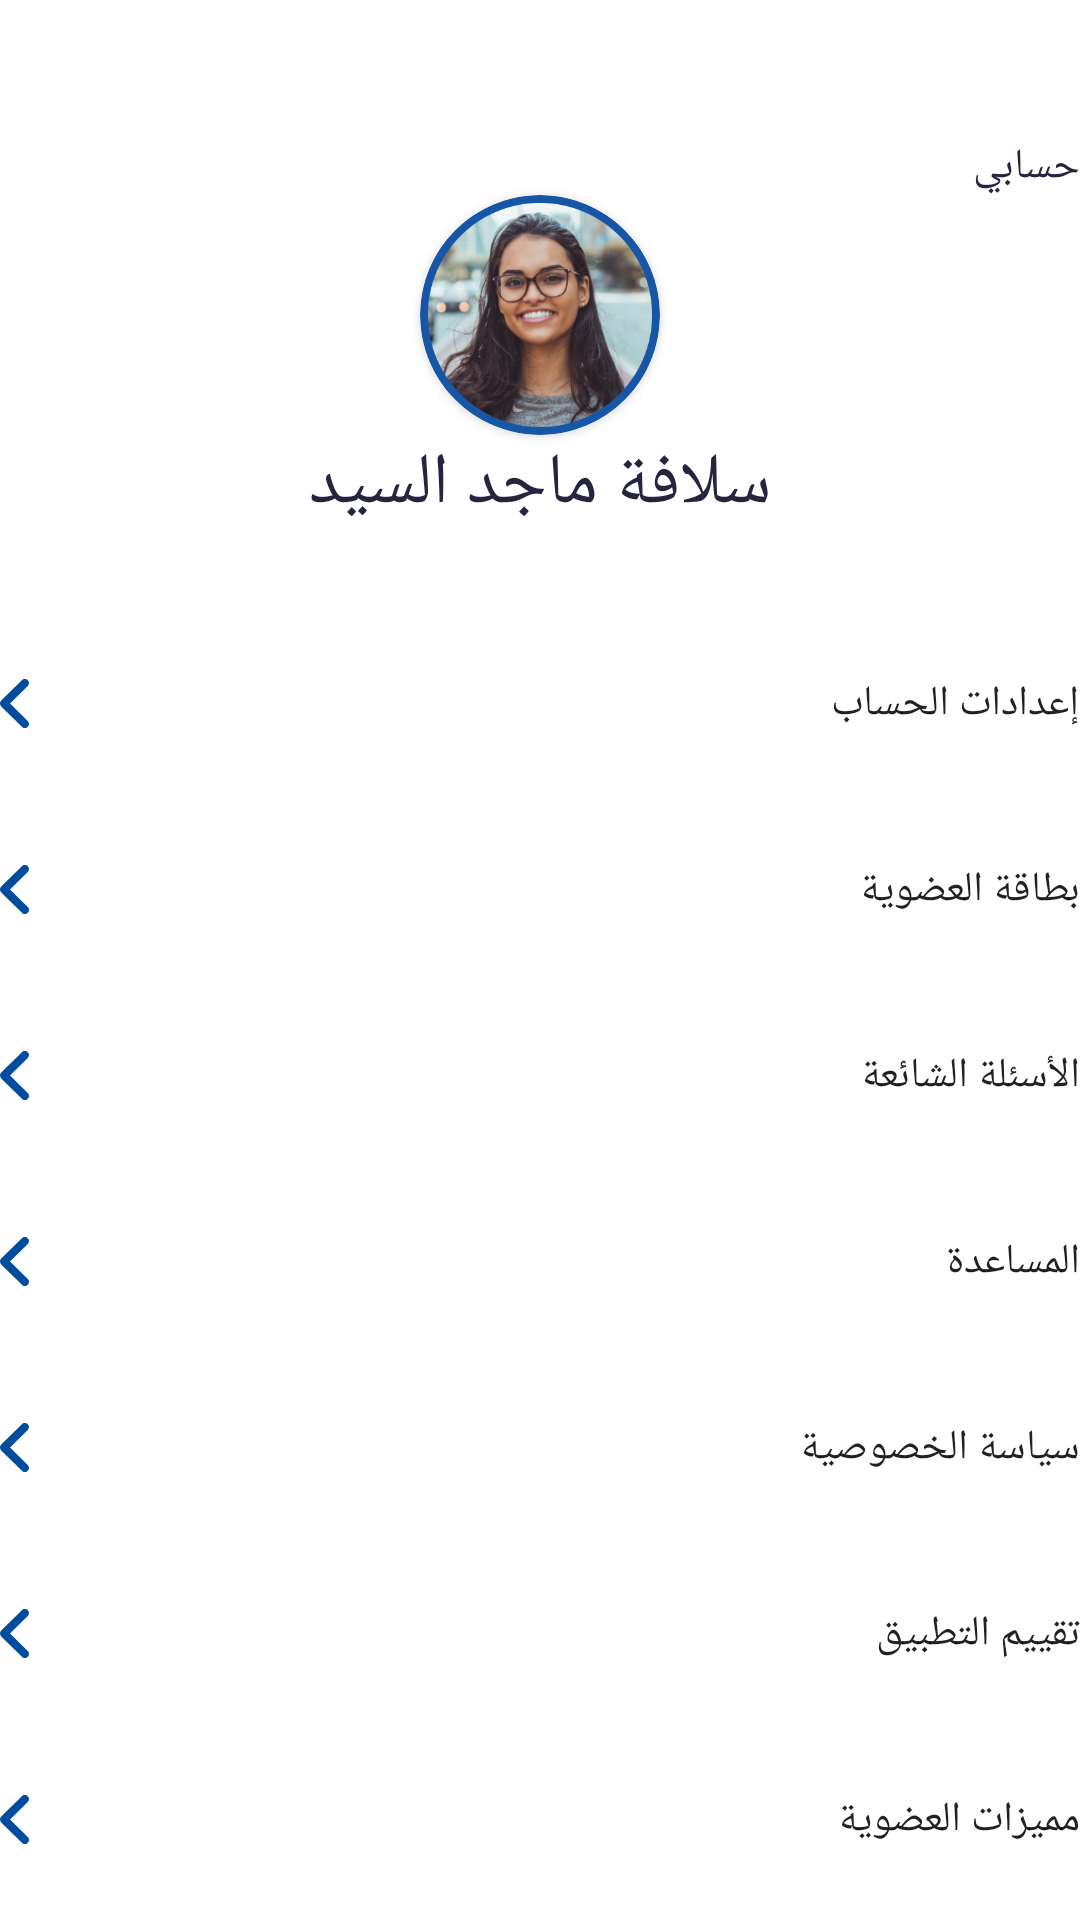

Icons on this 1080 x 1920 Android screen, each with its box as {"left": x1, "top": y1, "right": x2, "bottom": y2}:
accountface: {"left": 420, "top": 195, "right": 660, "bottom": 435}
